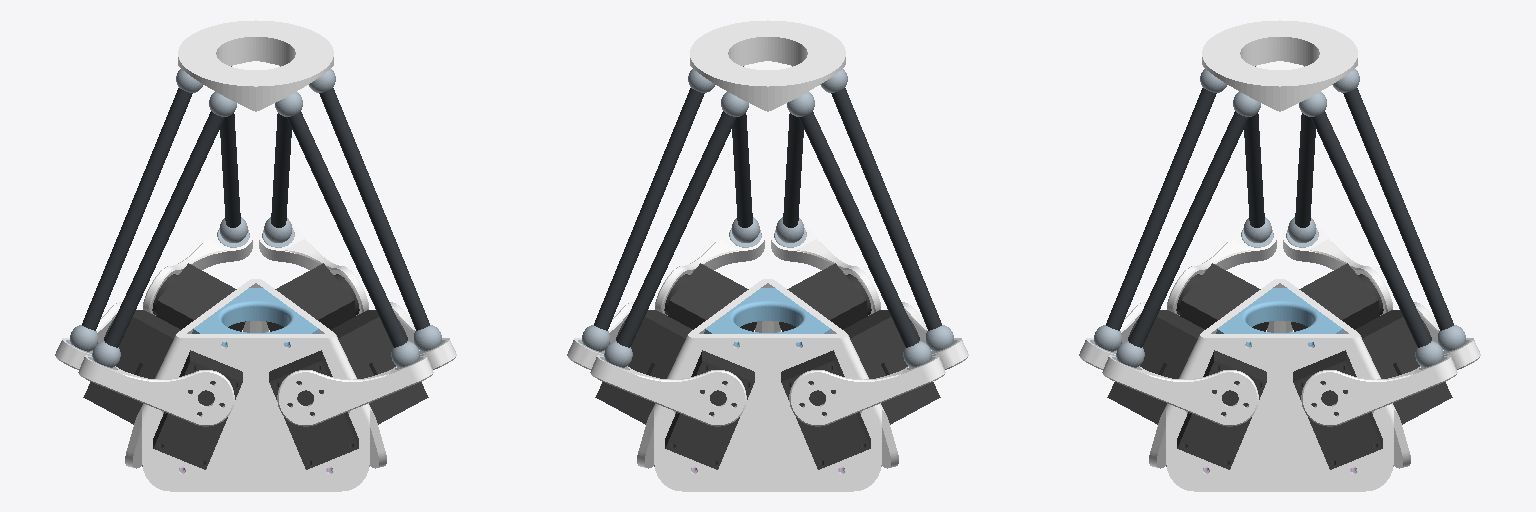
--- Render facts (derived) ---
3 views of the same robot in one strip: view 1: azimuth 30°, elevation 25°; view 2: azimuth 150°, elevation 25°; view 3: azimuth 270°, elevation 25° (orthographic).
Model robot with 41 links and 40 joints (29 revolute, 11 fixed), rooted at simplified_xl330, posed all joints at 0.
Visible links, largest first — view 1: simplified_xl330, platform, left_arm, right_arm, rod, 10mm_ball, 10mm_ball_2, 10mm_ball_5, right_arm_2, left_arm_3, 10mm_ball_4, 10mm_ball_3 (+2 smaller); view 2: simplified_xl330, platform, left_arm_3, right_arm_3, 10mm_ball_4, 10mm_ball_5, rod, 10mm_ball_3, right_arm, left_arm_2, 10mm_ball, 10mm_ball_2 (+2 smaller); view 3: simplified_xl330, platform, right_arm_2, left_arm_2, 10mm_ball_3, 10mm_ball_2, 10mm_ball, 10mm_ball_4, left_arm, right_arm_3, rod, 10mm_ball_5 (+2 smaller).
Link boxes in pixels (left/top/right/bottom): simplified_xl330: left=83, top=263, right=428, bottom=491; platform: left=178, top=20, right=333, bottom=111; left_arm: left=78, top=355, right=234, bottom=426; right_arm: left=277, top=355, right=433, bottom=426; rod: left=92, top=92, right=236, bottom=367; 10mm_ball: left=275, top=92, right=419, bottom=367; 10mm_ball_2: left=309, top=69, right=441, bottom=351; 10mm_ball_5: left=70, top=69, right=202, bottom=351; right_arm_2: left=259, top=223, right=368, bottom=315; left_arm_3: left=143, top=223, right=252, bottom=315; 10mm_ball_4: left=220, top=66, right=247, bottom=242; 10mm_ball_3: left=264, top=66, right=291, bottom=242; simplified_xl330: left=595, top=263, right=940, bottom=491; platform: left=690, top=20, right=845, bottom=111; left_arm_3: left=590, top=355, right=746, bottom=426; right_arm_3: left=789, top=355, right=945, bottom=426; 10mm_ball_4: left=604, top=92, right=748, bottom=367; 10mm_ball_5: left=787, top=92, right=931, bottom=367; rod: left=820, top=69, right=953, bottom=351; 10mm_ball_3: left=582, top=69, right=715, bottom=351; right_arm: left=771, top=223, right=880, bottom=315; left_arm_2: left=655, top=223, right=764, bottom=315; 10mm_ball: left=776, top=66, right=803, bottom=242; 10mm_ball_2: left=732, top=66, right=759, bottom=242; simplified_xl330: left=1107, top=263, right=1452, bottom=491; platform: left=1202, top=20, right=1357, bottom=111; right_arm_2: left=1301, top=355, right=1457, bottom=426; left_arm_2: left=1102, top=355, right=1258, bottom=426; 10mm_ball_3: left=1299, top=92, right=1443, bottom=367; 10mm_ball_2: left=1116, top=92, right=1260, bottom=367; 10mm_ball: left=1094, top=69, right=1227, bottom=351; 10mm_ball_4: left=1332, top=69, right=1465, bottom=351; left_arm: left=1167, top=223, right=1276, bottom=315; right_arm_3: left=1283, top=223, right=1392, bottom=315; rod: left=1244, top=66, right=1271, bottom=242; 10mm_ball_5: left=1288, top=66, right=1315, bottom=242.
Size in the robot's own frame: 0.1285 by 0.1414 by 0.155 metres.
Meshes: 17 distinct files referenced, 48 mesh visuals loaded (10 binary STL); not drawn: 10 (file found but could not be loaded).

robot.urdf — robot:
<?xml version="1.0" ?>
<!-- Generated using onshape-to-robot -->
<!-- Onshape https://cad.onshape.com/documents/e305b26a84339af20c593973/w/695ea941e5d92df9f00ffaef/e/333e72319d1d07cd9b78e76b -->
<robot name="robot">
  <!-- Link simplified_xl330 -->
  <link name="simplified_xl330">
    <inertial>
      <origin xyz="1.34605e-07 2.33142e-07 0.0267776" rpy="0 0 0"/>
      <mass value="0.180117"/>
      <inertia ixx="0.00016756" ixy="-2.21414e-09" ixz="-3.40032e-10" iyy="0.000167557" iyz="-5.88953e-10" izz="0.00025142"/>
    </inertial>
    <!-- Part base_side -->
    <visual>
      <origin xyz="2.77241e-17 6.93302e-18 0.0426353" rpy="-2.29587e-16 1.82529e-16 -0.523599"/>
      <geometry>
        <mesh filename="package://assets/base_side.stl"/>
      </geometry>
      <material name="base_side_material">
        <color rgba="1 1 1 1.0"/>
      </material>
    </visual>
    <collision>
      <origin xyz="2.77241e-17 6.93302e-18 0.0426353" rpy="-2.29587e-16 1.82529e-16 -0.523599"/>
      <geometry>
        <mesh filename="package://assets/base_side.stl"/>
      </geometry>
    </collision>
    <!-- Part base_side_2 -->
    <visual>
      <origin xyz="1.31347e-06 4.9169e-07 0.0426361" rpy="-1.39735e-10 -3.14651e-05 -2.61798"/>
      <geometry>
        <mesh filename="package://assets/base_side.stl"/>
      </geometry>
      <material name="base_side_2_material">
        <color rgba="1 1 1 1.0"/>
      </material>
    </visual>
    <collision>
      <origin xyz="1.31347e-06 4.9169e-07 0.0426361" rpy="-1.39735e-10 -3.14651e-05 -2.61798"/>
      <geometry>
        <mesh filename="package://assets/base_side.stl"/>
      </geometry>
    </collision>
    <!-- Part base_top -->
    <visual>
      <origin xyz="2.56857e-17 9.03047e-18 0.0426353" rpy="-2.2879e-16 1.82778e-16 -0.523599"/>
      <geometry>
        <mesh filename="package://assets/base_top.stl"/>
      </geometry>
      <material name="base_top_material">
        <color rgba="0.615686 0.811765 0.929412 1.0"/>
      </material>
    </visual>
    <collision>
      <origin xyz="2.56857e-17 9.03047e-18 0.0426353" rpy="-2.2879e-16 1.82778e-16 -0.523599"/>
      <geometry>
        <mesh filename="package://assets/base_top.stl"/>
      </geometry>
    </collision>
    <!-- Part base_side_3 -->
    <visual>
      <origin xyz="-2.30919e-07 1.38334e-06 0.0426361" rpy="-1.39733e-10 3.14651e-05 1.57079"/>
      <geometry>
        <mesh filename="package://assets/base_side.stl"/>
      </geometry>
      <material name="base_side_3_material">
        <color rgba="1 1 1 1.0"/>
      </material>
    </visual>
    <collision>
      <origin xyz="-2.30919e-07 1.38334e-06 0.0426361" rpy="-1.39733e-10 3.14651e-05 1.57079"/>
      <geometry>
        <mesh filename="package://assets/base_side.stl"/>
      </geometry>
    </collision>
    <!-- Part base_bot -->
    <visual>
      <origin xyz="-1.00763e-17 -1.82615e-18 0.0426353" rpy="3.40237e-16 3.2563e-16 -0.523599"/>
      <geometry>
        <mesh filename="package://assets/base_bot.stl"/>
      </geometry>
      <material name="base_bot_material">
        <color rgba="0.85098 0.756863 0.866667 1.0"/>
      </material>
    </visual>
    <collision>
      <origin xyz="-1.00763e-17 -1.82615e-18 0.0426353" rpy="3.40237e-16 3.2563e-16 -0.523599"/>
      <geometry>
        <mesh filename="package://assets/base_bot.stl"/>
      </geometry>
    </collision>
    <!-- Part simplified_xl330 -->
    <visual>
      <origin xyz="0.0239338 0.0203709 0.0296924" rpy="1.27428 -0.37714 1.68284"/>
      <geometry>
        <mesh filename="package://assets/simplified_xl330.stl"/>
      </geometry>
      <material name="simplified_xl330_material">
        <color rgba="0.301961 0.301961 0.301961 1.0"/>
      </material>
    </visual>
    <collision>
      <origin xyz="0.0239338 0.0203709 0.0296924" rpy="1.27428 -0.37714 1.68284"/>
      <geometry>
        <mesh filename="package://assets/simplified_xl330.stl"/>
      </geometry>
    </collision>
    <!-- Part simplified_xl330_2 -->
    <visual>
      <origin xyz="0.00567481 0.0309127 0.0296924" rpy="1.27428 0.37714 -2.73004"/>
      <geometry>
        <mesh filename="package://assets/simplified_xl330.stl"/>
      </geometry>
      <material name="simplified_xl330_2_material">
        <color rgba="0.301961 0.301961 0.301961 1.0"/>
      </material>
    </visual>
    <collision>
      <origin xyz="0.00567481 0.0309127 0.0296924" rpy="1.27428 0.37714 -2.73004"/>
      <geometry>
        <mesh filename="package://assets/simplified_xl330.stl"/>
      </geometry>
    </collision>
    <!-- Part simplified_xl330_3 -->
    <visual>
      <origin xyz="-0.0296071 0.0105423 0.0296936" rpy="1.27427 -0.377203 -2.50593"/>
      <geometry>
        <mesh filename="package://assets/simplified_xl330.stl"/>
      </geometry>
      <material name="simplified_xl330_3_material">
        <color rgba="0.301961 0.301961 0.301961 1.0"/>
      </material>
    </visual>
    <collision>
      <origin xyz="-0.0296071 0.0105423 0.0296936" rpy="1.27427 -0.377203 -2.50593"/>
      <geometry>
        <mesh filename="package://assets/simplified_xl330.stl"/>
      </geometry>
    </collision>
    <!-- Part simplified_xl330_4 -->
    <visual>
      <origin xyz="0.00567413 -0.0309124 0.0296922" rpy="1.27427 -0.377171 -0.411546"/>
      <geometry>
        <mesh filename="package://assets/simplified_xl330.stl"/>
      </geometry>
      <material name="simplified_xl330_4_material">
        <color rgba="0.301961 0.301961 0.301961 1.0"/>
      </material>
    </visual>
    <collision>
      <origin xyz="0.00567413 -0.0309124 0.0296922" rpy="1.27427 -0.377171 -0.411546"/>
      <geometry>
        <mesh filename="package://assets/simplified_xl330.stl"/>
      </geometry>
    </collision>
    <!-- Part simplified_xl330_5 -->
    <visual>
      <origin xyz="-0.029608 -0.0105423 0.0296922" rpy="1.27427 0.377171 -0.635652"/>
      <geometry>
        <mesh filename="package://assets/simplified_xl330.stl"/>
      </geometry>
      <material name="simplified_xl330_5_material">
        <color rgba="0.301961 0.301961 0.301961 1.0"/>
      </material>
    </visual>
    <collision>
      <origin xyz="-0.029608 -0.0105423 0.0296922" rpy="1.27427 0.377171 -0.635652"/>
      <geometry>
        <mesh filename="package://assets/simplified_xl330.stl"/>
      </geometry>
    </collision>
    <!-- Part simplified_xl330_6 -->
    <visual>
      <origin xyz="0.0239334 -0.0203694 0.0296936" rpy="1.27427 0.377203 1.45873"/>
      <geometry>
        <mesh filename="package://assets/simplified_xl330.stl"/>
      </geometry>
      <material name="simplified_xl330_6_material">
        <color rgba="0.301961 0.301961 0.301961 1.0"/>
      </material>
    </visual>
    <collision>
      <origin xyz="0.0239334 -0.0203694 0.0296936" rpy="1.27427 0.377203 1.45873"/>
      <geometry>
        <mesh filename="package://assets/simplified_xl330.stl"/>
      </geometry>
    </collision>
  </link>
  <!-- Link left_arm -->
  <link name="left_arm">
    <inertial>
      <origin xyz="-0.0267634 0.0046049 0.00174754" rpy="0 0 0"/>
      <mass value="0.00541129"/>
      <inertia ixx="1.47788e-07" ixy="1.70926e-07" ixz="1.92071e-07" iyy="1.39835e-06" iyz="-2.15256e-08" izz="1.40141e-06"/>
    </inertial>
    <!-- Part magnet -->
    <visual>
      <origin xyz="-0.038 6.245e-17 0.00384958" rpy="1.5708 1.10155e-16 3.14159"/>
      <geometry>
        <mesh filename="package://assets/magnet.stl"/>
      </geometry>
      <material name="magnet_material">
        <color rgba="0.713725 0.760784 0.8 1.0"/>
      </material>
    </visual>
    <collision>
      <origin xyz="-0.038 6.245e-17 0.00384958" rpy="1.5708 1.10155e-16 3.14159"/>
      <geometry>
        <mesh filename="package://assets/magnet.stl"/>
      </geometry>
    </collision>
    <!-- Part left_arm -->
    <visual>
      <origin xyz="0.0175 -0.0120291 0.0464647" rpy="1.84591 -3.55118e-18 -9.19674e-17"/>
      <geometry>
        <mesh filename="package://assets/left_arm.stl"/>
      </geometry>
      <material name="left_arm_material">
        <color rgba="1 1 1 1.0"/>
      </material>
    </visual>
    <collision>
      <origin xyz="0.0175 -0.0120291 0.0464647" rpy="1.84591 -3.55118e-18 -9.19674e-17"/>
      <geometry>
        <mesh filename="package://assets/left_arm.stl"/>
      </geometry>
    </collision>
  </link>
  <!-- Link passive_1_link_x -->
  <link name="passive_1_link_x">
    <inertial>
      <origin xyz="0 0 0" rpy="0 0 0"/>
      <mass value="1e-09"/>
      <inertia ixx="1e-09" ixy="0" ixz="0" iyy="1e-09" iyz="0" izz="1e-09"/>
    </inertial>
  </link>
  <!-- Link passive_1_link_y -->
  <link name="passive_1_link_y">
    <inertial>
      <origin xyz="0 0 0" rpy="0 0 0"/>
      <mass value="1e-09"/>
      <inertia ixx="1e-09" ixy="0" ixz="0" iyy="1e-09" iyz="0" izz="1e-09"/>
    </inertial>
  </link>
  <!-- Link rod -->
  <link name="rod">
    <inertial>
      <origin xyz="-0.00163493 0.00269119 0.049701" rpy="0 0 0"/>
      <mass value="0.0100726"/>
      <inertia ixx="2.05276e-05" ixy="3.62962e-08" ixz="6.70317e-07" iyy="2.04899e-05" iyz="-1.10338e-06" izz="1.72358e-07"/>
    </inertial>
    <!-- Part rod -->
    <visual>
      <origin xyz="0.0461199 -0.037426 0.0389005" rpy="0.338673 0.485261 -3.04345"/>
      <geometry>
        <mesh filename="package://assets/rod.stl"/>
      </geometry>
      <material name="rod_material">
        <color rgba="0.262745 0.282353 0.301961 1.0"/>
      </material>
    </visual>
    <collision>
      <origin xyz="0.0461199 -0.037426 0.0389005" rpy="0.338673 0.485261 -3.04345"/>
      <geometry>
        <mesh filename="package://assets/rod.stl"/>
      </geometry>
    </collision>
    <!-- Part 10mm_ball -->
    <visual>
      <origin xyz="-0.00326986 0.00538239 0.0994019" rpy="0.0562358 0.0290136 -3.07149"/>
      <geometry>
        <mesh filename="package://assets/10mm_ball.stl"/>
      </geometry>
      <material name="10mm_ball_material">
        <color rgba="0.713725 0.760784 0.8 1.0"/>
      </material>
    </visual>
    <collision>
      <origin xyz="-0.00326986 0.00538239 0.0994019" rpy="0.0562358 0.0290136 -3.07149"/>
      <geometry>
        <mesh filename="package://assets/10mm_ball.stl"/>
      </geometry>
    </collision>
    <!-- Part 10mm_ball_2 -->
    <visual>
      <origin xyz="0 1.31839e-16 -6.93889e-18" rpy="3.08536 -0.0290136 0.0701014"/>
      <geometry>
        <mesh filename="package://assets/10mm_ball.stl"/>
      </geometry>
      <material name="10mm_ball_2_material">
        <color rgba="0.713725 0.760784 0.8 1.0"/>
      </material>
    </visual>
    <collision>
      <origin xyz="0 1.31839e-16 -6.93889e-18" rpy="3.08536 -0.0290136 0.0701014"/>
      <geometry>
        <mesh filename="package://assets/10mm_ball.stl"/>
      </geometry>
    </collision>
  </link>
  <!-- Frame closing_2_1 (dummy link + fixed joint) -->
  <link name="closing_2_1">
    <origin xyz="0 0 0" rpy="0 -0 0"/>
    <inertial>
      <origin xyz="0 0 0" rpy="0 0 0"/>
      <mass value="1e-9"/>
      <inertia ixx="0" ixy="0" ixz="0" iyy="0" iyz="0" izz="0"/>
    </inertial>
  </link>
  <joint name="closing_2_1_frame" type="fixed">
    <origin xyz="-0.00326986 0.00538239 0.0994019" rpy="-3.08536 0.0290136 -3.07149"/>
    <parent link="rod"/>
    <child link="closing_2_1"/>
    <axis xyz="0 0 0"/>
  </joint>
  <!-- Joint from passive_1_link_y to rod -->
  <joint name="passive_1_z" type="revolute">
    <origin xyz="1.38778e-17 -6.93889e-18 -3.46945e-18" rpy="-1.91261e-17 3.04674e-17 5.37636e-17"/>
    <parent link="passive_1_link_y"/>
    <child link="rod"/>
    <axis xyz="0 0 1"/>
    <limit effort="10" velocity="10" lower="-3.141592653589793" upper="3.141592653589793"/>
  </joint>
  <!-- Joint from passive_1_link_x to passive_1_link_y -->
  <joint name="passive_1_y" type="revolute">
    <origin xyz="1.38778e-17 -6.93889e-18 -3.46945e-18" rpy="-1.91261e-17 3.04674e-17 5.37636e-17"/>
    <parent link="passive_1_link_x"/>
    <child link="passive_1_link_y"/>
    <axis xyz="0 1 0"/>
    <limit effort="10" velocity="10" lower="-3.141592653589793" upper="3.141592653589793"/>
  </joint>
  <!-- Joint from left_arm to passive_1_link_x -->
  <joint name="passive_1_x" type="revolute">
    <origin xyz="-0.038 6.245e-17 0.00384958" rpy="-1.5708 1.10155e-16 3.14159"/>
    <parent link="left_arm"/>
    <child link="passive_1_link_x"/>
    <axis xyz="1 0 0"/>
    <limit effort="10" velocity="10" lower="-3.141592653589793" upper="3.141592653589793"/>
  </joint>
  <!-- Joint from simplified_xl330 to left_arm -->
  <joint name="1" type="revolute">
    <origin xyz="-0.0386923 -0.0320171 0.0434238" rpy="-1.86732 0.377171 -0.635652"/>
    <parent link="simplified_xl330"/>
    <child link="left_arm"/>
    <axis xyz="0 0 1"/>
    <limit effort="10" velocity="10" lower="-3.141592653589793" upper="3.141592653589793"/>
  </joint>
  <!-- Link right_arm -->
  <link name="right_arm">
    <inertial>
      <origin xyz="0.0267634 0.0046049 0.00174754" rpy="0 0 0"/>
      <mass value="0.00541129"/>
      <inertia ixx="1.47788e-07" ixy="-1.70926e-07" ixz="-1.92071e-07" iyy="1.39835e-06" iyz="-2.15256e-08" izz="1.40141e-06"/>
    </inertial>
    <!-- Part magnet_2 -->
    <visual>
      <origin xyz="0.038 1.38778e-17 0.00384958" rpy="1.5708 8.51439e-17 -3.14159"/>
      <geometry>
        <mesh filename="package://assets/magnet.stl"/>
      </geometry>
      <material name="magnet_2_material">
        <color rgba="0.713725 0.760784 0.8 1.0"/>
      </material>
    </visual>
    <collision>
      <origin xyz="0.038 1.38778e-17 0.00384958" rpy="1.5708 8.51439e-17 -3.14159"/>
      <geometry>
        <mesh filename="package://assets/magnet.stl"/>
      </geometry>
    </collision>
    <!-- Part right_arm -->
    <visual>
      <origin xyz="-0.0175 -0.0120291 0.0464647" rpy="1.84591 9.59615e-18 4.52996e-17"/>
      <geometry>
        <mesh filename="package://assets/right_arm.stl"/>
      </geometry>
      <material name="right_arm_material">
        <color rgba="1 1 1 1.0"/>
      </material>
    </visual>
    <collision>
      <origin xyz="-0.0175 -0.0120291 0.0464647" rpy="1.84591 9.59615e-18 4.52996e-17"/>
      <geometry>
        <mesh filename="package://assets/right_arm.stl"/>
      </geometry>
    </collision>
  </link>
  <!-- Link passive_6_link_x -->
  <link name="passive_6_link_x">
    <inertial>
      <origin xyz="0 0 0" rpy="0 0 0"/>
      <mass value="1e-09"/>
      <inertia ixx="1e-09" ixy="0" ixz="0" iyy="1e-09" iyz="0" izz="1e-09"/>
    </inertial>
  </link>
  <!-- Link passive_6_link_y -->
  <link name="passive_6_link_y">
    <inertial>
      <origin xyz="0 0 0" rpy="0 0 0"/>
      <mass value="1e-09"/>
      <inertia ixx="1e-09" ixy="0" ixz="0" iyy="1e-09" iyz="0" izz="1e-09"/>
    </inertial>
  </link>
  <!-- Link 10mm_ball -->
  <link name="10mm_ball">
    <inertial>
      <origin xyz="5.25186e-16 5.58747e-18 0.0498006" rpy="0 0 0"/>
      <mass value="0.0100726"/>
      <inertia ixx="2.05497e-05" ixy="-3.58088e-21" ixz="-2.00486e-19" iyy="2.05497e-05" iyz="-2.62417e-21" izz="9.05619e-08"/>
    </inertial>
    <!-- Part rod_2 -->
    <visual>
      <origin xyz="0.0444954 -0.0426152 0.0352861" rpy="0.275115 0.457035 -3.14159"/>
      <geometry>
        <mesh filename="package://assets/rod.stl"/>
      </geometry>
      <material name="rod_2_material">
        <color rgba="0.262745 0.282353 0.301961 1.0"/>
      </material>
    </visual>
    <collision>
      <origin xyz="0.0444954 -0.0426152 0.0352861" rpy="0.275115 0.457035 -3.14159"/>
      <geometry>
        <mesh filename="package://assets/rod.stl"/>
      </geometry>
    </collision>
    <!-- Part 10mm_ball_3 -->
    <visual>
      <origin xyz="0 0 -3.46945e-18" rpy="-3.14159 -2.02993e-17 4.97353e-18"/>
      <geometry>
        <mesh filename="package://assets/10mm_ball.stl"/>
      </geometry>
      <material name="10mm_ball_3_material">
        <color rgba="0.713725 0.760784 0.8 1.0"/>
      </material>
    </visual>
    <collision>
      <origin xyz="0 0 -3.46945e-18" rpy="-3.14159 -2.02993e-17 4.97353e-18"/>
      <geometry>
        <mesh filename="package://assets/10mm_ball.stl"/>
      </geometry>
    </collision>
    <!-- Part 10mm_ball_4 -->
    <visual>
      <origin xyz="1.07553e-15 1.38778e-17 0.0996012" rpy="-4.68876e-15 -3.84954e-16 3.14159"/>
      <geometry>
        <mesh filename="package://assets/10mm_ball.stl"/>
      </geometry>
      <material name="10mm_ball_4_material">
        <color rgba="0.713725 0.760784 0.8 1.0"/>
      </material>
    </visual>
    <collision>
      <origin xyz="1.07553e-15 1.38778e-17 0.0996012" rpy="-4.68876e-15 -3.84954e-16 3.14159"/>
      <geometry>
        <mesh filename="package://assets/10mm_ball.stl"/>
      </geometry>
    </collision>
  </link>
  <!-- Frame closing_3_2 (dummy link + fixed joint) -->
  <link name="closing_3_2">
    <origin xyz="0 0 0" rpy="0 -0 0"/>
    <inertial>
      <origin xyz="0 0 0" rpy="0 0 0"/>
      <mass value="1e-9"/>
      <inertia ixx="0" ixy="0" ixz="0" iyy="0" iyz="0" izz="0"/>
    </inertial>
  </link>
  <joint name="closing_3_2_frame" type="fixed">
    <origin xyz="1.07553e-15 1.38778e-17 0.0996012" rpy="4.68876e-15 3.84954e-16 -1.1657e-16"/>
    <parent link="10mm_ball"/>
    <child link="closing_3_2"/>
    <axis xyz="0 0 0"/>
  </joint>
  <!-- Joint from passive_6_link_y to 10mm_ball -->
  <joint name="passive_6_z" type="revolute">
    <origin xyz="0 0 -3.46945e-18" rpy="2.96551e-17 -2.02993e-17 4.97353e-18"/>
    <parent link="passive_6_link_y"/>
    <child link="10mm_ball"/>
    <axis xyz="0 0 1"/>
    <limit effort="10" velocity="10" lower="-3.141592653589793" upper="3.141592653589793"/>
  </joint>
  <!-- Joint from passive_6_link_x to passive_6_link_y -->
  <joint name="passive_6_y" type="revolute">
    <origin xyz="0 0 -3.46945e-18" rpy="2.96551e-17 -2.02993e-17 4.97353e-18"/>
    <parent link="passive_6_link_x"/>
    <child link="passive_6_link_y"/>
    <axis xyz="0 1 0"/>
    <limit effort="10" velocity="10" lower="-3.141592653589793" upper="3.141592653589793"/>
  </joint>
  <!-- Joint from right_arm to passive_6_link_x -->
  <joint name="passive_6_x" type="revolute">
    <origin xyz="0.038 4.51028e-17 0.00384958" rpy="-1.63195 0.485977 3.08012"/>
    <parent link="right_arm"/>
    <child link="passive_6_link_x"/>
    <axis xyz="1 0 0"/>
    <limit effort="10" velocity="10" lower="-3.141592653589793" upper="3.141592653589793"/>
  </joint>
  <!-- Joint from simplified_xl330 to right_arm -->
  <joint name="2" type="revolute">
    <origin xyz="-0.00838143 -0.0495171 0.0434238" rpy="-1.86732 -0.377171 -0.411546"/>
    <parent link="simplified_xl330"/>
    <child link="right_arm"/>
    <axis xyz="0 0 1"/>
    <limit effort="10" velocity="10" lower="-3.141592653589793" upper="3.141592653589793"/>
  </joint>
  <!-- Link left_arm_2 -->
  <link name="left_arm_2">
    <inertial>
      <origin xyz="-0.0267634 0.0046049 0.00174754" rpy="0 0 0"/>
      <mass value="0.00541129"/>
      <inertia ixx="1.47788e-07" ixy="1.70926e-07" ixz="1.92071e-07" iyy="1.39835e-06" iyz="-2.15256e-08" izz="1.40141e-06"/>
    </inertial>
    <!-- Part magnet_3 -->
    <visual>
      <origin xyz="-0.038 -1.04083e-17 0.00384958" rpy="-1.5708 -1.5708 0"/>
      <geometry>
        <mesh filename="package://assets/magnet.stl"/>
      </geometry>
      <material name="magnet_3_material">
        <color rgba="0.713725 0.760784 0.8 1.0"/>
      </material>
    </visual>
    <collision>
      <origin xyz="-0.038 -1.04083e-17 0.00384958" rpy="-1.5708 -1.5708 0"/>
      <geometry>
        <mesh filename="package://assets/magnet.stl"/>
      </geometry>
    </collision>
    <!-- Part left_arm_2 -->
    <visual>
      <origin xyz="0.0175 -0.0120291 0.0464647" rpy="1.84591 1.49967e-17 -1.51216e-17"/>
      <geometry>
        <mesh filename="package://assets/left_arm.stl"/>
      </geometry>
      <material name="left_arm_2_material">
        <color rgba="1 1 1 1.0"/>
      </material>
    </visual>
    <collision>
      <origin xyz="0.0175 -0.0120291 0.0464647" rpy="1.84591 1.49967e-17 -1.51216e-17"/>
      <geometry>
        <mesh filename="package://assets/left_arm.stl"/>
      </geometry>
    </collision>
  </link>
  <!-- Link passive_5_link_x -->
  <link name="passive_5_link_x">
    <inertial>
      <origin xyz="0 0 0" rpy="0 0 0"/>
      <mass value="1e-09"/>
      <inertia ixx="1e-09" ixy="0" ixz="0" iyy="1e-09" iyz="0" izz="1e-09"/>
    </inertial>
  </link>
  <!-- Link passive_5_link_y -->
  <link name="passive_5_link_y">
    <inertial>
      <origin xyz="0 0 0" rpy="0 0 0"/>
      <mass value="1e-09"/>
      <inertia ixx="1e-09" ixy="0" ixz="0" iyy="1e-09" iyz="0" izz="1e-09"/>
    </inertial>
  </link>
  <!-- Link 10mm_ball_2 -->
  <link name="10mm_ball_2">
    <inertial>
      <origin xyz="-2.22203e-16 1.38918e-17 0.0498006" rpy="0 0 0"/>
      <mass value="0.0100726"/>
      <inertia ixx="2.05497e-05" ixy="2.30501e-21" ixz="7.71427e-20" iyy="2.05497e-05" iyz="1.09072e-20" izz="9.05619e-08"/>
    </inertial>
    <!-- Part rod_3 -->
    <visual>
      <origin xyz="0.0444954 -0.0426152 0.0352861" rpy="0.275115 0.457035 -3.14159"/>
      <geometry>
        <mesh filename="package://assets/rod.stl"/>
      </geometry>
      <material name="rod_3_material">
        <color rgba="0.262745 0.282353 0.301961 1.0"/>
      </material>
    </visual>
    <collision>
      <origin xyz="0.0444954 -0.0426152 0.0352861" rpy="0.275115 0.457035 -3.14159"/>
      <geometry>
        <mesh filename="package://assets/rod.stl"/>
      </geometry>
    </collision>
    <!-- Part 10mm_ball_5 -->
    <visual>
      <origin xyz="-6.93889e-18 6.93889e-18 0" rpy="-3.14159 -2.05212e-17 -1.09212e-17"/>
      <geometry>
        <mesh filename="package://assets/10mm_ball.stl"/>
      </geometry>
      <material name="10mm_ball_5_material">
        <color rgba="0.713725 0.760784 0.8 1.0"/>
      </material>
    </visual>
    <collision>
      <origin xyz="-6.93889e-18 6.93889e-18 0" rpy="-3.14159 -2.05212e-17 -1.09212e-17"/>
      <geometry>
        <mesh filename="package://assets/10mm_ball.stl"/>
      </geometry>
    </collision>
    <!-- Part 10mm_ball_6 -->
    <visual>
      <origin xyz="-4.3715e-16 2.08167e-17 0.0996012" rpy="1.14058e-14 -8.209e-16 -3.14159"/>
      <geometry>
        <mesh filename="package://assets/10mm_ball.stl"/>
      </geometry>
      <material name="10mm_ball_6_material">
        <color rgba="0.713725 0.760784 0.8 1.0"/>
      </material>
    </visual>
    <collision>
      <origin xyz="-4.3715e-16 2.08167e-17 0.0996012" rpy="1.14058e-14 -8.209e-16 -3.14159"/>
      <geometry>
        <mesh filename="package://assets/10mm_ball.stl"/>
      </geometry>
    </collision>
  </link>
  <!-- Frame closing_4_1 (dummy link + fixed joint) -->
  <link name="closing_4_1">
    <origin xyz="0 0 0" rpy="0 -0 0"/>
    <inertial>
      <origin xyz="0 0 0" rpy="0 0 0"/>
      <mass value="1e-9"/>
      <inertia ixx="0" ixy="0" ixz="0" iyy="0" iyz="0" izz="0"/>
    </inertial>
  </link>
  <joint name="closing_4_1_frame" type="fixed">
    <origin xyz="-4.3715e-16 2.08167e-17 0.0996012" rpy="-3.14159 -8.209e-16 -3.14159"/>
    <parent link="10mm_ball_2"/>
    <child link="closing_4_1"/>
    <axis xyz="0 0 0"/>
  </joint>
  <!-- Joint from passive_5_link_y to 10mm_ball_2 -->
  <joint name="passive_5_z" type="revolute">
    <origin xyz="-6.93889e-18 6.93889e-18 0" rpy="4.59049e-17 -2.05212e-17 -1.09212e-17"/>
    <parent link="passive_5_link_y"/>
    <child link="10mm_ball_2"/>
    <axis xyz="0 0 1"/>
    <limit effort="10" velocity="10" lower="-3.141592653589793" upper="3.141592653589793"/>
  </joint>
  <!-- Joint from passive_5_link_x to passive_5_link_y -->
  <joint name="passive_5_y" type="revolute">
    <origin xyz="-6.93889e-18 6.93889e-18 0" rpy="4.59049e-17 -2.05212e-17 -1.09212e-17"/>
    <parent link="passive_5_link_x"/>
    <child link="passive_5_link_y"/>
    <axis xyz="0 1 0"/>
    <limit effort="10" velocity="10" lower="-3.141592653589793" upper="3.141592653589793"/>
  </joint>
  <!-- Joint from left_arm_2 to passive_5_link_x -->
  <joint name="passive_5_x" type="revolute">
    <origin xyz="-0.038 -3.46945e-18 0.00384958" rpy="1.94647 -1.42258 -0.338994"/>
    <parent link="left_arm_2"/>
    <child link="passive_5_link_x"/>
    <axis xyz="1 0 0"/>
    <limit effort="10" velocity="10" lower="-3.141592653589793" upper="3.141592653589793"/>
  </joint>
  <!-- Joint from simplified_xl330 to left_arm_2 -->
  <joint name="3" type="revolute">
    <origin xyz="0.0470734 -0.017499 0.0434252" rpy="-1.86732 0.377203 1.45873"/>
    <parent link="simplified_xl330"/>
    <child link="left_arm_2"/>
    <axis xyz="0 0 1"/>
    <limit effort="10" velocity="10" lower="-3.141592653589793" upper="3.141592653589793"/>
  </joint>
  <!-- Link right_arm_2 -->
  <link name="right_arm_2">
    <inertial>
      <origin xyz="0.0267634 0.0046049 0.00174754" rpy="0 0 0"/>
      <mass value="0.00541129"/>
      <inertia ixx="1.47788e-07" ixy="-1.70926e-07" ixz="-1.92071e-07" iyy="1.39835e-06" iyz="-2.15256e-08" izz="1.40141e-06"/>
    </inertial>
    <!-- Part right_arm_2 -->
    <visual>
      <origin xyz="-0.0175 -0.0120291 0.0464647" rpy="1.84591 -1.24927e-17 2.64147e-17"/>
      <geometry>
        <mesh filename="package://assets/right_arm.stl"/>
      </geometry>
      <material name="right_arm_2_material">
        <color rgba="1 1 1 1.0"/>
      </material>
    </visual>
    <collision>
      <origin xyz="-0.0175 -0.0120291 0.0464647" rpy="1.84591 -1.24927e-17 2.64147e-17"/>
      <geometry>
        <mesh filename="package://assets/right_arm.stl"/>
      </geometry>
    </collision>
    <!-- Part magnet_4 -->
    <visual>
      <origin xyz="0.038 -1.17961e-16 0.00384958" rpy="-1.5708 7.39625e-18 3.77643e-15"/>
      <geometry>
        <mesh filename="package://assets/magnet.stl"/>
      </geometry>
      <material name="magnet_4_material">
        <color rgba="0.713725 0.760784 0.8 1.0"/>
      </material>
    </visual>
    <collision>
      <origin xyz="0.038 -1.17961e-16 0.00384958" rpy="-1.5708 7.39625e-18 3.77643e-15"/>
      <geometry>
        <mesh filename="package://assets/magnet.stl"/>
      </geometry>
    </collision>
  </link>
  <!-- Link passive_4_link_x -->
  <link name="passive_4_link_x">
    <inertial>
      <origin xyz="0 0 0" rpy="0 0 0"/>
      <mass value="1e-09"/>
      <inertia ixx="1e-09" ixy="0" ixz="0" iyy="1e-09" iyz="0" izz="1e-09"/>
    </inertial>
  </link>
  <!-- Link passive_4_link_y -->
  <link name="passive_4_link_y">
    <inertial>
      <origin xyz="0 0 0" rpy="0 0 0"/>
      <mass value="1e-09"/>
      <inertia ixx="1e-09" ixy="0" ixz="0" iyy="1e-09" iyz="0" izz="1e-09"/>
    </inertial>
  </link>
  <!-- Link 10mm_ball_3 -->
  <link name="10mm_ball_3">
    <inertial>
      <origin xyz="-4.82459e-16 1.12232e-17 0.0498006" rpy="0 0 0"/>
      <mass value="0.0100726"/>
      <inertia ixx="2.05497e-05" ixy="-1.64555e-20" ixz="1.78786e-19" iyy="2.05497e-05" iyz="-1.0978e-20" izz="9.05619e-08"/>
    </inertial>
    <!-- Part 10mm_ball_7 -->
    <visual>
      <origin xyz="0 -1.38778e-17 0" rpy="3.14159 -3.20322e-17 6.66802e-17"/>
      <geometry>
        <mesh filename="package://assets/10mm_ball.stl"/>
      </geometry>
      <material name="10mm_ball_7_material">
        <color rgba="0.713725 0.760784 0.8 1.0"/>
      </material>
    </visual>
    <collision>
      <origin xyz="0 -1.38778e-17 0" rpy="3.14159 -3.20322e-17 6.66802e-17"/>
      <geometry>
        <mesh filename="package://assets/10mm_ball.stl"/>
      </geometry>
    </collision>
    <!-- Part 10mm_ball_8 -->
    <visual>
      <origin xyz="-9.64506e-16 5.55112e-17 0.0996012" rpy="-2.6558e-14 9.92746e-16 -1.5708"/>
      <geometry>
        <mesh filename="package://assets/10mm_ball.stl"/>
      </geometry>
      <material name="10mm_ball_8_material">
        <color rgba="0.713725 0.760784 0.8 1.0"/>
      </material>
    </visual>
    <collision>
      <origin xyz="-9.64506e-16 5.55112e-17 0.0996012" rpy="-2.6558e-14 9.92746e-16 -1.5708"/>
      <geometry>
        <mesh filename="package://assets/10mm_ball.stl"/>
      </geometry>
    </collision>
    <!-- Part rod_4 -->
    <visual>
      <origin xyz="0.0444954 -0.0426152 0.0352861" rpy="0.275115 0.457035 3.14159"/>
      <geometry>
        <mesh filename="package://assets/rod.stl"/>
      </geometry>
      <material name="rod_4_material">
        <color rgba="0.262745 0.282353 0.301961 1.0"/>
      </material>
    </visual>
    <collision>
      <origin xyz="0.0444954 -0.0426152 0.0352861" rpy="0.275115 0.457035 3.14159"/>
      <geometry>
        <mesh filename="package://assets/rod.stl"/>
      </geometry>
    </collision>
  </link>
  <!-- Frame closing_5_2 (dummy link + fixed joint) -->
  <link name="closing_5_2">
    <origin xyz="0 0 0" rpy="0 -0 0"/>
    <inertial>
      <origin xyz="0 0 0" rpy="0 0 0"/>
      <mass value="1e-9"/>
      <inertia ixx="0" ixy="0" ixz="0" iyy="0" iyz="0" izz="0"/>
    </inertial>
  </link>
  <joint name="closing_5_2_frame" type="fixed">
    <origin xyz="-9.64506e-16 5.55112e-17 0.0996012" rpy="2.6558e-14 -9.92746e-16 1.5708"/>
    <parent link="10mm_ball_3"/>
    <child link="closing_5_2"/>
    <axis xyz="0 0 0"/>
  </joint>
  <!-- Joint from passive_4_link_y to 10mm_ball_3 -->
  <joint name="passive_4_z" type="revolute">
    <origin xyz="0 -1.38778e-17 0" rpy="-5.80953e-17 -3.20322e-17 6.66802e-17"/>
    <parent link="passive_4_link_y"/>
    <child link="10mm_ball_3"/>
    <axis xyz="0 0 1"/>
    <limit effort="10" velocity="10" lower="-3.141592653589793" upper="3.141592653589793"/>
  </joint>
  <!-- Joint from passive_4_link_x to passive_4_link_y -->
  <joint name="passive_4_y" type="revolute">
    <origin xyz="0 -1.38778e-17 0" rpy="-5.80953e-17 -3.20322e-17 6.66802e-17"/>
    <parent link="passive_4_link_x"/>
    <child link="passive_4_link_y"/>
    <axis xyz="0 1 0"/>
    <limit effort="10" velocity="10" lower="-3.141592653589793" upper="3.141592653589793"/>
  </joint>
  <!-- Joint from right_arm_2 to passive_4_link_x -->
  <joint name="passive_4_x" type="revolute">
    <origin xyz="0.038 -1.14492e-16 0.00384958" rpy="1.63153 -0.467373 -0.0602377"/>
    <parent link="right_arm_2"/>
    <child link="passive_4_link_x"/>
    <axis xyz="1 0 0"/>
    <limit effort="10" velocity="10" lower="-3.141592653589793" upper="3.141592653589793"/>
  </joint>
  <!-- Joint from simplified_xl330 to right_arm_2 -->
  <joint name="4" type="revolute">
    <origin xyz="0.0470737 0.017501 0.0434241" rpy="-1.86731 -0.37714 1.68284"/>
    <parent link="simplified_xl330"/>
    <child link="right_arm_2"/>
    <axis xyz="0 0 1"/>
    <limit effort="10" velocity="10" lower="-3.141592653589793" upper="3.141592653589793"/>
  </joint>
  <!-- Link left_arm_3 -->
  <link name="left_arm_3">
    <inertial>
      <origin xyz="-0.0267634 0.0046049 0.00174754" rpy="0 0 0"/>
      <mass value="0.00541129"/>
      <inertia ixx="1.47788e-07" ixy="1.70926e-07" ixz="1.92071e-07" iyy="1.39835e-06" iyz="-2.15256e-08" izz="1.40141e-06"/>
    </inertial>
    <!-- Part left_arm_3 -->
    <visual>
      <origin xyz="0.0175 -0.0120291 0.0464647" rpy="1.84591 4.24979e-17 -1.20977e-17"/>
      <geometry>
        <mesh filename="package://assets/left_arm.stl"/>
      </geometry>
      <material name="left_arm_3_material">
        <color rgba="1 1 1 1.0"/>
      </material>
    </visual>
    <collision>
      <origin xyz="0.0175 -0.0120291 0.0464647" rpy="1.84591 4.24979e-17 -1.20977e-17"/>
      <geometry>
        <mesh filename="package://assets/left_arm.stl"/>
      </geometry>
    </collision>
    <!-- Part magnet_5 -->
    <visual>
      <origin xyz="-0.038 -1.249e-16 0.00384958" rpy="-1.5708 1.5708 0"/>
      <geometry>
        <mesh filename="package://assets/magnet.stl"/>
      </geometry>
      <material name="magnet_5_material">
        <color rgba="0.713725 0.760784 0.8 1.0"/>
      </material>
    </visual>
    <collision>
      <origin xyz="-0.038 -1.249e-16 0.00384958" rpy="-1.5708 1.5708 0"/>
      <geometry>
        <mesh filename="package://assets/magnet.stl"/>
      </geometry>
    </collision>
  </link>
  <!-- Link passive_3_link_x -->
  <link name="passive_3_link_x">
    <inertial>
      <origin xyz="0 0 0" rpy="0 0 0"/>
      <mass value="1e-09"/>
      <inertia ixx="1e-09" ixy="0" ixz="0" iyy="1e-09" iyz="0" izz="1e-09"/>
    </inertial>
  </link>
  <!-- Link passive_3_link_y -->
  <link name="passive_3_link_y">
    <inertial>
      <origin xyz="0 0 0" rpy="0 0 0"/>
      <mass value="1e-09"/>
      <inertia ixx="1e-09" ixy="0" ixz="0" iyy="1e-09" iyz="0" izz="1e-09"/>
    </inertial>
  </link>
  <!-- Link 10mm_ball_4 -->
  <link name="10mm_ball_4">
    <inertial>
      <origin xyz="2.61999e-17 1.29673e-17 0.0498006" rpy="0 0 0"/>
      <mass value="0.0100726"/>
      <inertia ixx="2.05497e-05" ixy="-3.01926e-22" ixz="-1.572e-20" iyy="2.05497e-05" iyz="-5.02598e-21" izz="9.05619e-08"/>
    </inertial>
    <!-- Part rod_5 -->
    <visual>
      <origin xyz="0.0444954 -0.0426152 0.0352861" rpy="0.275115 0.457035 -3.14159"/>
      <geometry>
        <mesh filename="package://assets/rod.stl"/>
      </geometry>
      <material name="rod_5_material">
        <color rgba="0.262745 0.282353 0.301961 1.0"/>
      </material>
    </visual>
    <collision>
      <origin xyz="0.0444954 -0.0426152 0.0352861" rpy="0.275115 0.457035 -3.14159"/>
      <geometry>
        <mesh filename="package://assets/rod.stl"/>
      </geometry>
    </collision>
    <!-- Part 10mm_ball_9 -->
    <visual>
      <origin xyz="-6.93889e-18 0 0" rpy="-3.14159 -5.53998e-17 3.69236e-17"/>
      <geometry>
        <mesh filename="package://assets/10mm_ball.stl"/>
      </geometry>
      <material name="10mm_ball_9_material">
        <color rgba="0.713725 0.760784 0.8 1.0"/>
      </material>
    </visual>
    <collision>
      <origin xyz="-6.93889e-18 0 0" rpy="-3.14159 -5.53998e-17 3.69236e-17"/>
      <geometry>
        <mesh filename="package://assets/10mm_ball.stl"/>
      </geometry>
    </collision>
    <!-- Part 10mm_ball_10 -->
    <visual>
      <origin xyz="7.63278e-17 2.77556e-17 0.0996012" rpy="9.49833e-16 5.75899e-17 -3.14159"/>
      <geometry>
        <mesh filename="package://assets/10mm_ball.stl"/>
      </geometry>
      <material name="10mm_ball_10_material">
        <color rgba="0.713725 0.760784 0.8 1.0"/>
      </material>
    </visual>
    <collision>
      <origin xyz="7.63278e-17 2.77556e-17 0.0996012" rpy="9.49833e-16 5.75899e-17 -3.14159"/>
      <geometry>
        <mesh filename="package://assets/10mm_ball.stl"/>
      </geometry>
    </collision>
  </link>
  <!-- Link passive_7_link_x -->
  <link name="passive_7_link_x">
    <inertial>
      <origin xyz="0 0 0" rpy="0 0 0"/>
      <mass value="1e-09"/>
      <inertia ixx="1e-09" ixy="0" ixz="0" iyy="1e-09" iyz="0" izz="1e-09"/>
    </inertial>
  </link>
  <!-- Link passive_7_link_y -->
  <link name="passive_7_link_y">
    <inertial>
      <origin xyz="0 0 0" rpy="0 0 0"/>
      <mass value="1e-09"/>
      <inertia ixx="1e-09" ixy="0" ixz="0" iyy="1e-09" iyz="0" izz="1e-09"/>
    </inertial>
  </link>
  <!-- Link platform -->
  <link name="platform">
    <inertial>
      <origin xyz="-0.0210906 -0.0161908 0.0584805" rpy="0 0 0"/>
      <mass value="0.363548"/>
      <inertia ixx="0.00100069" ixy="2.3324e-05" ixz="3.70713e-05" iyy="0.00100073" iyz="-4.82971e-05" izz="0.00107943"/>
    </inertial>
    <!-- Part magnet_6 -->
    <visual>
      <origin xyz="3.46945e-18 -1.38778e-17 -1.38778e-17" rpy="-1.3621e-17 -3.08255e-17 -6.96528e-17"/>
      <geometry>
        <mesh filename="package://assets/magnet.stl"/>
      </geometry>
      <material name="magnet_6_material">
        <color rgba="0.713725 0.760784 0.8 1.0"/>
      </material>
    </visual>
    <collision>
      <origin xyz="3.46945e-18 -1.38778e-17 -1.38778e-17" rpy="-1.3621e-17 -3.08255e-17 -6.96528e-17"/>
      <geometry>
        <mesh filename="package://assets/magnet.stl"/>
      </geometry>
    </collision>
    <!-- Part mp00663_neck_a2 -->
    <visual>
      <origin xyz="-0.0614166 -0.0410136 0.0528248" rpy="0.292726 0.446444 -0.977716"/>
      <geometry>
        <mesh filename="package://assets/mp00663_neck_a2.stl"/>
      </geometry>
      <material name="mp00663_neck_a2_material">
        <color rgba="0.701961 0.701961 0.701961 1.0"/>
      </material>
    </visual>
    <collision>
      <origin xyz="-0.0614166 -0.0410136 0.0528248" rpy="0.292726 0.446444 -0.977716"/>
      <geometry>
        <mesh filename="package://assets/mp00663_neck_a2.stl"/>
      </geometry>
    </collision>
    <!-- Part magnet_7 -->
    <visual>
      <origin xyz="-0.0347355 0.0172732 0.00975103" rpy="0.868921 0.289653 0.336009"/>
      <geometry>
        <mesh filename="package://assets/magnet.stl"/>
      </geometry>
      <material name="magnet_7_material">
        <color rgba="0.713725 0.760784 0.8 1.0"/>
      </material>
    </visual>
    <collision>
      <origin xyz="-0.0347355 0.0172732 0.00975103" rpy="0.868921 0.289653 0.336009"/>
      <geometry>
        <mesh filename="package://assets/magnet.stl"/>
      </geometry>
    </collision>
    <!-- Part magnet_8 -->
    <visual>
      <origin xyz="0.0114504 0.0172732 0.0101912" rpy="0.875514 -0.307639 -0.337949"/>
      <geometry>
        <mesh filename="package://assets/magnet.stl"/>
      </geometry>
      <material name="magnet_8_material">
        <color rgba="0.713725 0.760784 0.8 1.0"/>
      </material>
    </visual>
    <collision>
      <origin xyz="0.0114504 0.0172732 0.0101912" rpy="0.875514 -0.307639 -0.337949"/>
      <geometry>
        <mesh filename="package://assets/magnet.stl"/>
      </geometry>
    </collision>
    <!-- Part pp00671_monocle_a2 -->
    <visual>
      <origin xyz="-0.0598003 -0.0402533 0.0533951" rpy="0.292726 0.446444 -0.977716"/>
      <geometry>
        <mesh filename="package://assets/pp00671_monocle_a2.stl"/>
      </geometry>
      <material name="pp00671_monocle_a2_material">
        <color rgba="0.262745 0.282353 0.301961 1.0"/>
      </material>
    </visual>
    <collision>
      <origin xyz="-0.0598003 -0.0402533 0.0533951" rpy="0.292726 0.446444 -0.977716"/>
      <geometry>
        <mesh filename="package://assets/pp00671_monocle_a2.stl"/>
      </geometry>
    </collision>
    <!-- Part platform -->
    <visual>
      <origin xyz="-0.0109346 0.0606327 -0.0643152" rpy="-0.528315 0.00952906 3.14159"/>
      <geometry>
        <mesh filename="package://assets/platform.stl"/>
      </geometry>
      <material name="platform_material">
        <color rgba="1 1 1 1.0"/>
      </material>
    </visual>
    <collision>
      <origin xyz="-0.0109346 0.0606327 -0.0643152" rpy="-0.528315 0.00952906 3.14159"/>
      <geometry>
        <mesh filename="package://assets/platform.stl"/>
      </geometry>
    </collision>
    <!-- Part pp00670_front_shell_a2 -->
    <visual>
      <origin xyz="-0.0611719 -0.0409392 0.0529817" rpy="0.292726 0.446444 -0.977716"/>
      <geometry>
        <mesh filename="package://assets/pp00670_front_shell_a2.stl"/>
      </geometry>
      <material name="pp00670_front_shell_a2_material">
        <color rgba="1 1 1 1.0"/>
      </material>
    </visual>
    <collision>
      <origin xyz="-0.0611719 -0.0409392 0.0529817" rpy="0.292726 0.446444 -0.977716"/>
      <geometry>
        <mesh filename="package://assets/pp00670_front_shell_a2.stl"/>
      </geometry>
    </collision>
    <!-- Part magnet_9 -->
    <visual>
      <origin xyz="-0.000192133 0.0345463 0.0201622" rpy="0.860681 -0.32035 -0.341222"/>
      <geometry>
        <mesh filename="package://assets/magnet.stl"/>
      </geometry>
      <material name="magnet_9_material">
        <color rgba="0.713725 0.760784 0.8 1.0"/>
      </material>
    </visual>
    <collision>
      <origin xyz="-0.000192133 0.0345463 0.0201622" rpy="0.860681 -0.32035 -0.341222"/>
      <geometry>
        <mesh filename="package://assets/magnet.stl"/>
      </geometry>
    </collision>
    <!-- Part mp00664_back_sheet_a3 -->
    <visual>
      <origin xyz="-0.0614166 -0.0410136 0.0528248" rpy="0.292726 0.446444 -0.977716"/>
      <geometry>
        <mesh filename="package://assets/mp00664_back_sheet_a3.stl"/>
      </geometry>
      <material name="mp00664_back_sheet_a3_material">
        <color rgba="0.701961 0.701961 0.701961 1.0"/>
      </material>
    </visual>
    <collision>
      <origin xyz="-0.0614166 -0.0410136 0.0528248" rpy="0.292726 0.446444 -0.977716"/>
      <geometry>
        <mesh filename="package://assets/mp00664_back_sheet_a3.stl"/>
      </geometry>
    </collision>
    <!-- Part std00609_ed_lens_m12 -->
    <visual>
      <origin xyz="-0.00226359 -0.0764851 0.0327955" rpy="0.292726 0.446444 -0.977716"/>
      <geometry>
        <mesh filename="package://assets/std00609_ed_lens_m12.stl"/>
      </geometry>
      <material name="std00609_ed_lens_m12_material">
        <color rgba="0.615686 0.811765 0.929412 1.0"/>
      </material>
    </visual>
    <collision>
      <origin xyz="-0.00226359 -0.0764851 0.0327955" rpy="0.292726 0.446444 -0.977716"/>
      <geometry>
        <mesh filename="package://assets/std00609_ed_lens_m12.stl"/>
      </geometry>
    </collision>
    <!-- Part magnet_10 -->
    <visual>
      <origin xyz="-0.0232851 0.0345463 0.0199422" rpy="0.854 0.302384 0.339176"/>
      <geometry>
        <mesh filename="package://assets/magnet.stl"/>
      </geometry>
      <material name="magnet_10_material">
        <color rgba="0.713725 0.760784 0.8 1.0"/>
      </material>
    </visual>
    <collision>
      <origin xyz="-0.0232851 0.0345463 0.0199422" rpy="0.854 0.302384 0.339176"/>
      <geometry>
        <mesh filename="package://assets/magnet.stl"/>
      </geometry>
    </collision>
    <!-- Part std00609_ed_lens_m12_2 -->
    <visual>
      <origin xyz="-0.0347391 -0.0277217 0.0609484" rpy="0.292726 0.446444 -0.977716"/>
      <geometry>
        <mesh filename="package://assets/std00609_ed_lens_m12.stl"/>
      </geometry>
      <material name="std00609_ed_lens_m12_2_material">
        <color rgba="0.615686 0.811765 0.929412 1.0"/>
      </material>
    </visual>
    <collision>
      <origin xyz="-0.0347391 -0.0277217 0.0609484" rpy="0.292726 0.446444 -0.977716"/>
      <geometry>
        <mesh filename="package://assets/std00609_ed_lens_m12.stl"/>
      </geometry>
    </collision>
    <!-- Part magnet_11 -->
    <visual>
      <origin xyz="-0.023093 2.77556e-17 -0.000220061" rpy="-3.5922e-15 -0.0190581 -1.36686e-16"/>
      <geometry>
        <mesh filename="package://assets/magnet.stl"/>
      </geometry>
      <material name="magnet_11_material">
        <color rgba="0.713725 0.760784 0.8 1.0"/>
      </material>
    </visual>
    <collision>
      <origin xyz="-0.023093 2.77556e-17 -0.000220061" rpy="-3.5922e-15 -0.0190581 -1.36686e-16"/>
      <geometry>
        <mesh filename="package://assets/magnet.stl"/>
      </geometry>
    </collision>
  </link>
  <!-- Frame closing_1_1 (dummy link + fixed joint) -->
  <link name="closing_1_1">
    <origin xyz="0 0 0" rpy="0 -0 0"/>
    <inertial>
      <origin xyz="0 0 0" rpy="0 0 0"/>
      <mass value="1e-9"/>
      <inertia ixx="0" ixy="0" ixz="0" iyy="0" iyz="0" izz="0"/>
    </inertial>
  </link>
  <joint name="closing_1_1_frame" type="fixed">
    <origin xyz="0.0114504 0.0172732 0.0101912" rpy="0.875514 -0.307639 -0.337949"/>
    <parent link="platform"/>
    <child link="closing_1_1"/>
    <axis xyz="0 0 0"/>
  </joint>
  <!-- Frame closing_2_2 (dummy link + fixed joint) -->
  <link name="closing_2_2">
    <origin xyz="0 0 0" rpy="0 -0 0"/>
    <inertial>
      <origin xyz="0 0 0" rpy="0 0 0"/>
      <mass value="1e-9"/>
      <inertia ixx="0" ixy="0" ixz="0" iyy="0" iyz="0" izz="0"/>
    </inertial>
  </link>
  <joint name="closing_2_2_frame" type="fixed">
    <origin xyz="-0.000192133 0.0345463 0.0201622" rpy="2.28091 0.32035 2.80037"/>
    <parent link="platform"/>
    <child link="closing_2_2"/>
    <axis xyz="0 0 0"/>
  </joint>
  <!-- Frame closing_3_1 (dummy link + fixed joint) -->
  <link name="closing_3_1">
    <origin xyz="0 0 0" rpy="0 -0 0"/>
    <inertial>
      <origin xyz="0 0 0" rpy="0 0 0"/>
      <mass value="1e-9"/>
      <inertia ixx="0" ixy="0" ixz="0" iyy="0" iyz="0" izz="0"/>
    </inertial>
  </link>
  <joint name="closing_3_1_frame" type="fixed">
    <origin xyz="-0.0232851 0.0345463 0.0199422" rpy="0.854 0.302384 0.339176"/>
    <parent link="platform"/>
    <child link="closing_3_1"/>
    <axis xyz="0 0 0"/>
  </joint>
  <!-- Frame closing_4_2 (dummy link + fixed joint) -->
  <link name="closing_4_2">
    <origin xyz="0 0 0" rpy="0 -0 0"/>
    <inertial>
      <origin xyz="0 0 0" rpy="0 0 0"/>
      <mass value="1e-9"/>
      <inertia ixx="0" ixy="0" ixz="0" iyy="0" iyz="0" izz="0"/>
    </inertial>
  </link>
  <joint name="closing_4_2_frame" type="fixed">
    <origin xyz="-0.0347355 0.0172732 0.00975103" rpy="2.27267 -0.289653 -2.80558"/>
    <parent link="platform"/>
    <child link="closing_4_2"/>
    <axis xyz="0 0 0"/>
  </joint>
  <!-- Frame closing_5_1 (dummy link + fixed joint) -->
  <link name="closing_5_1">
    <origin xyz="0 0 0" rpy="0 -0 0"/>
    <inertial>
      <origin xyz="0 0 0" rpy="0 0 0"/>
      <mass value="1e-9"/>
      <inertia ixx="0" ixy="0" ixz="0" iyy="0" iyz="0" izz="0"/>
    </inertial>
  </link>
  <joint name="closing_5_1_frame" type="fixed">
    <origin xyz="-0.023093 2.77556e-17 -0.000220061" rpy="-3.5922e-15 -0.0190581 -1.36686e-16"/>
    <parent link="platform"/>
    <child link="closing_5_1"/>
    <axis xyz="0 0 0"/>
  </joint>
  <!-- Frame head (dummy link + fixed joint) -->
  <link name="head">
    <origin xyz="0 0 0" rpy="0 -0 0"/>
    <inertial>
      <origin xyz="0 0 0" rpy="0 0 0"/>
      <mass value="1e-9"/>
      <inertia ixx="0" ixy="0" ixz="0" iyy="0" iyz="0" izz="0"/>
    </inertial>
  </link>
  <joint name="head_frame" type="fixed">
    <origin xyz="-0.0117248 0.0122324 0.0186073" rpy="-0.463603 0.263312 -2.67791"/>
    <parent link="platform"/>
    <child link="head"/>
    <axis xyz="0 0 0"/>
  </joint>
  <!-- Link pp00672_antenna_mic_a1 -->
  <link name="pp00672_antenna_mic_a1">
    <inertial>
      <origin xyz="-0.0118437 0.0164131 -0.0243813" rpy="0 0 0"/>
      <mass value="0.0202419"/>
      <inertia ixx="3.22006e-05" ixy="1.40013e-05" ixz="-1.0829e-05" iyy="2.29008e-05" iyz="1.50069e-05" izz="3.09616e-05"/>
    </inertial>
    <!-- Part pp00673_antenna_sphere_a1 -->
    <visual>
      <origin xyz="-0.0798952 0.110719 -0.0971912" rpy="3.14159 -1.01229 2.19587"/>
      <geometry>
        <mesh filename="package://assets/pp00673_antenna_sphere_a1.stl"/>
      </geometry>
      <material name="pp00673_antenna_sphere_a1_material">
        <color rgba="0.901961 0.901961 0.901961 1.0"/>
      </material>
    </visual>
    <collision>
      <origin xyz="-0.0798952 0.110719 -0.0971912" rpy="3.14159 -1.01229 2.19587"/>
      <geometry>
        <mesh filename="package://assets/pp00673_antenna_sphere_a1.stl"/>
      </geometry>
    </collision>
    <!-- Part pp00672_antenna_mic_a1 -->
    <visual>
      <origin xyz="-0.0780354 0.108142 -0.0952052" rpy="3.14159 -1.01229 2.19587"/>
      <geometry>
        <mesh filename="package://assets/pp00672_antenna_mic_a1.stl"/>
      </geometry>
      <material name="pp00672_antenna_mic_a1_material">
        <color rgba="0.262745 0.282353 0.301961 1.0"/>
      </material>
    </visual>
    <collision>
      <origin xyz="-0.0780354 0.108142 -0.0952052" rpy="3.14159 -1.01229 2.19587"/>
      <geometry>
        <mesh filename="package://assets/pp00672_antenna_mic_a1.stl"/>
      </geometry>
    </collision>
  </link>
  <!-- Joint from platform to pp00672_antenna_mic_a1 -->
  <joint name="left_antenna" type="revolute">
    <origin xyz="0.035159 -0.0622228 0.0749453" rpy="2.08187 1.01498 -1.71429"/>
    <parent link="platform"/>
    <child link="pp00672_antenna_mic_a1"/>
    <axis xyz="0 0 1"/>
    <limit effort="10" velocity="10" lower="-3.141592653589793" upper="3.141592653589793"/>
  </joint>
  <!-- Link pp00672_antenna_mic_a1_2 -->
  <link name="pp00672_antenna_mic_a1_2">
    <inertial>
      <origin xyz="0.0115338 0.0166324 -0.0243813" rpy="0 0 0"/>
      <mass value="0.0202419"/>
      <inertia ixx="3.27223e-05" ixy="-1.38171e-05" ixz="1.05456e-05" iyy="2.2379e-05" iyz="1.52073e-05" izz="3.09616e-05"/>
    </inertial>
    <!-- Part pp00672_antenna_mic_a1_2 -->
    <visual>
      <origin xyz="0.0759936 0.109586 -0.0952052" rpy="3.14159 -1.01229 0.964474"/>
      <geometry>
        <mesh filename="package://assets/pp00672_antenna_mic_a1.stl"/>
      </geometry>
      <material name="pp00672_antenna_mic_a1_2_material">
        <color rgba="0.262745 0.282353 0.301961 1.0"/>
      </material>
    </visual>
    <collision>
      <origin xyz="0.0759936 0.109586 -0.0952052" rpy="3.14159 -1.01229 0.964474"/>
      <geometry>
        <mesh filename="package://assets/pp00672_antenna_mic_a1.stl"/>
      </geometry>
    </collision>
    <!-- Part pp00673_antenna_sphere_a1_2 -->
    <visual>
      <origin xyz="0.0778047 0.112198 -0.0971912" rpy="3.14159 -1.01229 0.964474"/>
      <geometry>
        <mesh filename="package://assets/pp00673_antenna_sphere_a1.stl"/>
      </geometry>
      <material name="pp00673_antenna_sphere_a1_2_material">
        <color rgba="0.901961 0.901961 0.901961 1.0"/>
      </material>
    </visual>
    <collision>
      <origin xyz="0.0778047 0.112198 -0.0971912" rpy="3.14159 -1.01229 0.964474"/>
      <geometry>
        <mesh filename="package://assets/pp00673_antenna_sphere_a1.stl"/>
      </geometry>
    </collision>
  </link>
  <!-- Joint from platform to pp00672_antenna_mic_a1_2 -->
  <joint name="right_antenna" type="revolute">
    <origin xyz="-0.0202961 0.0200517 0.122439" rpy="2.64924 -0.230354 -0.605094"/>
    <parent link="platform"/>
    <child link="pp00672_antenna_mic_a1_2"/>
    <axis xyz="0 0 1"/>
    <limit effort="10" velocity="10" lower="-3.141592653589793" upper="3.141592653589793"/>
  </joint>
  <!-- Joint from passive_7_link_y to platform -->
  <joint name="passive_7_z" type="revolute">
    <origin xyz="3.46945e-18 -1.38778e-17 -1.38778e-17" rpy="-1.3621e-17 -3.08255e-17 -6.96528e-17"/>
    <parent link="passive_7_link_y"/>
    <child link="platform"/>
    <axis xyz="0 0 1"/>
    <limit effort="10" velocity="10" lower="-3.141592653589793" upper="3.141592653589793"/>
  </joint>
  <!-- Joint from passive_7_link_x to passive_7_link_y -->
  <joint name="passive_7_y" type="revolute">
    <origin xyz="3.46945e-18 -1.38778e-17 -1.38778e-17" rpy="-1.3621e-17 -3.08255e-17 -6.96528e-17"/>
    <parent link="passive_7_link_x"/>
    <child link="passive_7_link_y"/>
    <axis xyz="0 1 0"/>
    <limit effort="10" velocity="10" lower="-3.141592653589793" upper="3.141592653589793"/>
  </joint>
  <!-- Joint from 10mm_ball_4 to passive_7_link_x -->
  <joint name="passive_7_x" type="revolute">
    <origin xyz="7.63278e-17 4.16334e-17 0.0996012" rpy="-0.0563544 -0.0277816 0.113755"/>
    <parent link="10mm_ball_4"/>
    <child link="passive_7_link_x"/>
    <axis xyz="1 0 0"/>
    <limit effort="10" velocity="10" lower="-3.141592653589793" upper="3.141592653589793"/>
  </joint>
  <!-- Joint from passive_3_link_y to 10mm_ball_4 -->
  <joint name="passive_3_z" type="revolute">
    <origin xyz="-6.93889e-18 0 0" rpy="8.6686e-17 -5.53998e-17 3.69236e-17"/>
    <parent link="passive_3_link_y"/>
    <child link="10mm_ball_4"/>
    <axis xyz="0 0 1"/>
    <limit effort="10" velocity="10" lower="-3.141592653589793" upper="3.141592653589793"/>
  </joint>
  <!-- Joint from passive_3_link_x to passive_3_link_y -->
  <joint name="passive_3_y" type="revolute">
    <origin xyz="-6.93889e-18 0 0" rpy="8.6686e-17 -5.53998e-17 3.69236e-17"/>
    <parent link="passive_3_link_x"/>
    <child link="passive_3_link_y"/>
    <axis xyz="0 1 0"/>
    <limit effort="10" velocity="10" lower="-3.141592653589793" upper="3.141592653589793"/>
  </joint>
  <!-- Joint from left_arm_3 to passive_3_link_x -->
  <joint name="passive_3_x" type="revolute">
    <origin xyz="-0.038 -1.56125e-16 0.00384958" rpy="1.68969 1.09636 0.138717"/>
    <parent link="left_arm_3"/>
    <child link="passive_3_link_x"/>
    <axis xyz="1 0 0"/>
    <limit effort="10" velocity="10" lower="-3.141592653589793" upper="3.141592653589793"/>
  </joint>
  <!-- Joint from simplified_xl330 to left_arm_3 -->
  <joint name="5" type="revolute">
    <origin xyz="-0.00838053 0.0495175 0.0434241" rpy="-1.86731 0.37714 -2.73004"/>
    <parent link="simplified_xl330"/>
    <child link="left_arm_3"/>
    <axis xyz="0 0 1"/>
    <limit effort="10" velocity="10" lower="-3.141592653589793" upper="3.141592653589793"/>
  </joint>
  <!-- Link right_arm_3 -->
  <link name="right_arm_3">
    <inertial>
      <origin xyz="0.0267634 0.0046049 0.00174754" rpy="0 0 0"/>
      <mass value="0.00541129"/>
      <inertia ixx="1.47788e-07" ixy="-1.70926e-07" ixz="-1.92071e-07" iyy="1.39835e-06" iyz="-2.15256e-08" izz="1.40141e-06"/>
    </inertial>
    <!-- Part magnet_12 -->
    <visual>
      <origin xyz="0.038 -6.93889e-17 0.00384958" rpy="-1.5708 1.5708 0"/>
      <geometry>
        <mesh filename="package://assets/magnet.stl"/>
      </geometry>
      <material name="magnet_12_material">
        <color rgba="0.713725 0.760784 0.8 1.0"/>
      </material>
    </visual>
    <collision>
      <origin xyz="0.038 -6.93889e-17 0.00384958" rpy="-1.5708 1.5708 0"/>
      <geometry>
        <mesh filename="package://assets/magnet.stl"/>
      </geometry>
    </collision>
    <!-- Part right_arm_3 -->
    <visual>
      <origin xyz="-0.0175 -0.0120291 0.0464647" rpy="1.84591 -6.01005e-17 -4.86395e-17"/>
      <geometry>
        <mesh filename="package://assets/right_arm.stl"/>
      </geometry>
      <material name="right_arm_3_material">
        <color rgba="1 1 1 1.0"/>
      </material>
    </visual>
    <collision>
      <origin xyz="-0.0175 -0.0120291 0.0464647" rpy="1.84591 -6.01005e-17 -4.86395e-17"/>
      <geometry>
        <mesh filename="package://assets/right_arm.stl"/>
      </geometry>
    </collision>
  </link>
  <!-- Link passive_2_link_x -->
  <link name="passive_2_link_x">
    <inertial>
      <origin xyz="0 0 0" rpy="0 0 0"/>
      <mass value="1e-09"/>
      <inertia ixx="1e-09" ixy="0" ixz="0" iyy="1e-09" iyz="0" izz="1e-09"/>
    </inertial>
  </link>
  <!-- Link passive_2_link_y -->
  <link name="passive_2_link_y">
    <inertial>
      <origin xyz="0 0 0" rpy="0 0 0"/>
      <mass value="1e-09"/>
      <inertia ixx="1e-09" ixy="0" ixz="0" iyy="1e-09" iyz="0" izz="1e-09"/>
    </inertial>
  </link>
  <!-- Link 10mm_ball_5 -->
  <link name="10mm_ball_5">
    <inertial>
      <origin xyz="2.72071e-16 2.11526e-18 0.0498006" rpy="0 0 0"/>
      <mass value="0.0100726"/>
      <inertia ixx="2.05497e-05" ixy="-9.69819e-21" ixz="-9.57583e-20" iyy="2.05497e-05" iyz="-7.15797e-21" izz="9.05619e-08"/>
    </inertial>
    <!-- Part rod_6 -->
    <visual>
      <origin xyz="0.0444954 -0.0426152 0.0352861" rpy="0.275115 0.457035 -3.14159"/>
      <geometry>
        <mesh filename="package://assets/rod.stl"/>
      </geometry>
      <material name="rod_6_material">
        <color rgba="0.262745 0.282353 0.301961 1.0"/>
      </material>
    </visual>
    <collision>
      <origin xyz="0.0444954 -0.0426152 0.0352861" rpy="0.275115 0.457035 -3.14159"/>
      <geometry>
        <mesh filename="package://assets/rod.stl"/>
      </geometry>
    </collision>
    <!-- Part 10mm_ball_11 -->
    <visual>
      <origin xyz="5.27356e-16 3.46945e-18 0.0996012" rpy="-1.01567e-14 -8.6843e-16 -3.14159"/>
      <geometry>
        <mesh filename="package://assets/10mm_ball.stl"/>
      </geometry>
      <material name="10mm_ball_11_material">
        <color rgba="0.713725 0.760784 0.8 1.0"/>
      </material>
    </visual>
    <collision>
      <origin xyz="5.27356e-16 3.46945e-18 0.0996012" rpy="-1.01567e-14 -8.6843e-16 -3.14159"/>
      <geometry>
        <mesh filename="package://assets/10mm_ball.stl"/>
      </geometry>
    </collision>
    <!-- Part 10mm_ball_12 -->
    <visual>
      <origin xyz="1.38778e-17 3.46945e-18 0" rpy="-3.14159 -4.04313e-17 -1.04784e-17"/>
      <geometry>
        <mesh filename="package://assets/10mm_ball.stl"/>
      </geometry>
      <material name="10mm_ball_12_material">
        <color rgba="0.713725 0.760784 0.8 1.0"/>
      </material>
    </visual>
    <collision>
      <origin xyz="1.38778e-17 3.46945e-18 0" rpy="-3.14159 -4.04313e-17 -1.04784e-17"/>
      <geometry>
        <mesh filename="package://assets/10mm_ball.stl"/>
      </geometry>
    </collision>
  </link>
  <!-- Frame closing_1_2 (dummy link + fixed joint) -->
  <link name="closing_1_2">
    <origin xyz="0 0 0" rpy="0 -0 0"/>
    <inertial>
      <origin xyz="0 0 0" rpy="0 0 0"/>
      <mass value="1e-9"/>
      <inertia ixx="0" ixy="0" ixz="0" iyy="0" iyz="0" izz="0"/>
    </inertial>
  </link>
  <joint name="closing_1_2_frame" type="fixed">
    <origin xyz="5.27356e-16 3.46945e-18 0.0996012" rpy="1.01567e-14 8.6843e-16 5.16933e-16"/>
    <parent link="10mm_ball_5"/>
    <child link="closing_1_2"/>
    <axis xyz="0 0 0"/>
  </joint>
  <!-- Joint from passive_2_link_y to 10mm_ball_5 -->
  <joint name="passive_2_z" type="revolute">
    <origin xyz="1.38778e-17 3.46945e-18 0" rpy="2.2995e-17 -4.04313e-17 -1.04784e-17"/>
    <parent link="passive_2_link_y"/>
    <child link="10mm_ball_5"/>
    <axis xyz="0 0 1"/>
    <limit effort="10" velocity="10" lower="-3.141592653589793" upper="3.141592653589793"/>
  </joint>
  <!-- Joint from passive_2_link_x to passive_2_link_y -->
  <joint name="passive_2_y" type="revolute">
    <origin xyz="1.38778e-17 3.46945e-18 0" rpy="2.2995e-17 -4.04313e-17 -1.04784e-17"/>
    <parent link="passive_2_link_x"/>
    <child link="passive_2_link_y"/>
    <axis xyz="0 1 0"/>
    <limit effort="10" velocity="10" lower="-3.141592653589793" upper="3.141592653589793"/>
  </joint>
  <!-- Joint from right_arm_3 to passive_2_link_x -->
  <joint name="passive_2_x" type="revolute">
    <origin xyz="0.038 -3.19189e-16 0.00384958" rpy="1.67139 1.0009 0.0518494"/>
    <parent link="right_arm_3"/>
    <child link="passive_2_link_x"/>
    <axis xyz="1 0 0"/>
    <limit effort="10" velocity="10" lower="-3.141592653589793" upper="3.141592653589793"/>
  </joint>
  <!-- Joint from simplified_xl330 to right_arm_3 -->
  <joint name="6" type="revolute">
    <origin xyz="-0.0386913 0.0320172 0.0434252" rpy="-1.86732 -0.377203 -2.50593"/>
    <parent link="simplified_xl330"/>
    <child link="right_arm_3"/>
    <axis xyz="0 0 1"/>
    <limit effort="10" velocity="10" lower="-3.141592653589793" upper="3.141592653589793"/>
  </joint>
</robot>
